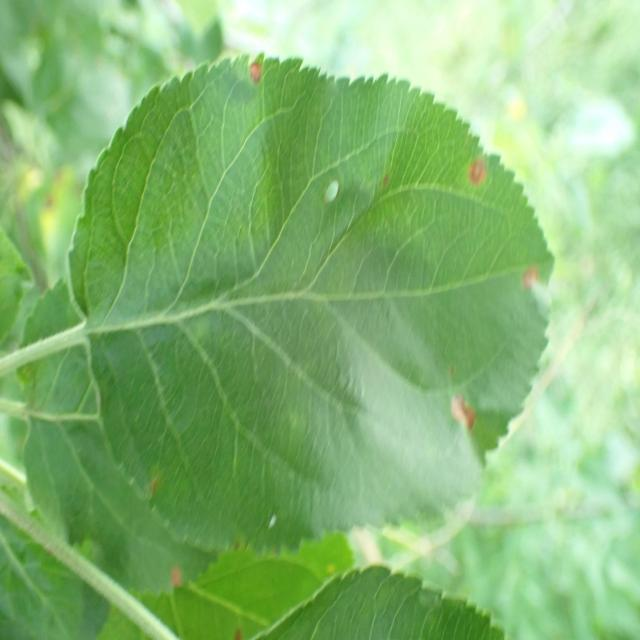frog-eye-leaf-spot: (19, 52, 557, 554)
